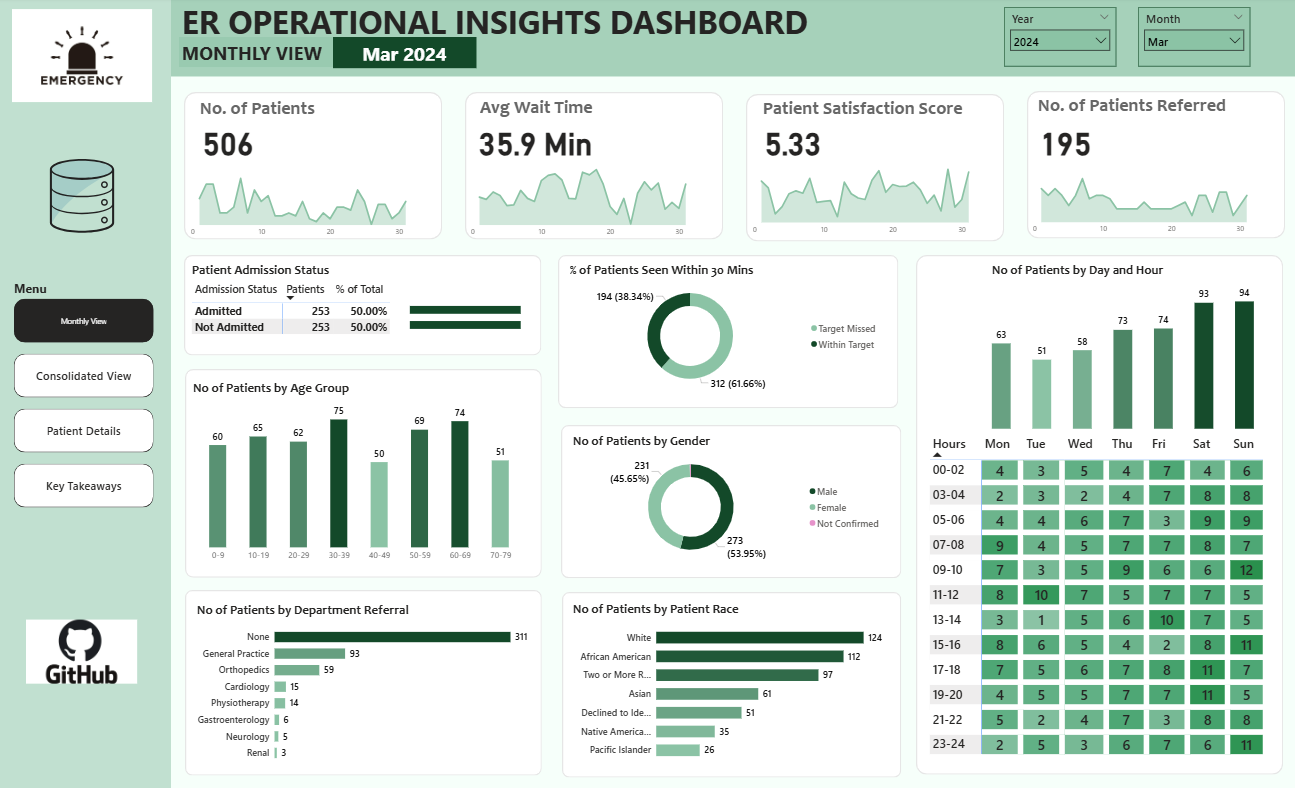

The page's visual inventory and layout, read from the dashboard file:
{"tool":"powerbi","page":{"name":"Monthly View","canvas":[2300,1400],"ordinal":0},"visuals":[{"type":"shape","box":[0,0,308.6,1400],"z":0},{"type":"shape","box":[309.1,0,1990.9,140],"z":1000},{"type":"shape","box":[1621.8,454.5,647.3,916.4],"z":2000},{"type":"textbox","box":[321.8,0,1209.1,107.3],"z":3000},{"type":"shape","box":[330.9,167.3,455,260],"z":4000},{"type":"textbox","box":[321.8,70.9,345.5,52.7],"z":5000},{"type":"cardVisual","fields":{"Data":["Hospital ER_Data.No of Patients"]},"box":[332.7,209.1,150.9,94.5],"z":6000},{"type":"slicer","fields":{"Values":["Date Table.Year"]},"box":[1778.2,18.2,198.2,105.5],"z":7000},{"type":"slicer","fields":{"Values":["Date Table.Month"]},"box":[2012.7,18.2,198.2,105.5],"z":8000},{"type":"textbox","box":[354.5,170.9,240,60],"z":9000},{"type":"areaChart","fields":{"Category":["Date Table.Date.Variation.Date Hierarchy.Day"],"Y":["Hospital ER_Data.No of Patients"]},"box":[330.9,285.5,454.5,145.5],"z":10000},{"type":"cardVisual","fields":{"Data":["Min(Date Table.Month & Year)"]},"box":[594.5,70.9,252.7,54.5],"z":11000},{"type":"shape","box":[826.4,168.2,455,260],"z":12000},{"type":"cardVisual","fields":{"Data":["Hospital ER_Data.Avg Wait Time"]},"box":[816.4,209.1,270.9,94.5],"z":13000},{"type":"textbox","box":[847.3,169.1,240,61.8],"z":14000},{"type":"shape","box":[330.9,454.5,630,177],"z":15000},{"type":"shape","box":[1321.8,170.9,455,260],"z":16000},{"type":"cardVisual","fields":{"Data":["Avg(Hospital ER_Data.Patient Satisfaction Score)"]},"box":[1312.7,209.1,181.8,94.5],"z":17000},{"type":"textbox","box":[1347.3,170.9,390.9,56.4],"z":18000},{"type":"areaChart","fields":{"Category":["Date Table.Date.Variation.Date Hierarchy.Day"],"Y":["Avg(Hospital ER_Data.Patient Satisfaction Score)"]},"box":[1321.8,281.8,456.4,145.5],"z":19000},{"type":"shape","box":[1817.3,165.5,455,260],"z":20000},{"type":"cardVisual","fields":{"Data":["Hospital ER_Data.No of Patients Referred"]},"box":[1796.4,209.1,180,94.5],"z":21000},{"type":"textbox","box":[1832.7,165.5,378.2,67.3],"z":22000},{"type":"areaChart","fields":{"Category":["Date Table.Date.Variation.Date Hierarchy.Day"],"Y":["Hospital ER_Data.No of Patients Referred"]},"box":[1816.4,294.5,452.7,132.7],"z":23000},{"type":"areaChart","fields":{"Category":["Date Table.Date.Variation.Date Hierarchy.Day"],"Y":["Avg(Hospital ER_Data.Patient Waittime)"]},"box":[825.5,285.5,454.5,145.5],"z":24000},{"type":"pivotTable","title":"Patient Admission Status","fields":{"Rows":["Hospital ER_Data.Admission Status"],"Values":["Hospital ER_Data.No of Patients1","Hospital ER_Data.No of Patients"]},"box":[340,467.3,601.8,150.9],"z":25000},{"type":"barChart","fields":{"Category":["Hospital ER_Data.Admission Status"],"Y":["Hospital ER_Data.No of Patients"]},"box":[725.5,518.2,241.8,87.3],"z":26000},{"type":"shape","box":[332.7,656.4,629.1,368],"z":27000},{"type":"clusteredColumnChart","fields":{"Category":["Hospital ER_Data.Age Group"],"Y":["Hospital ER_Data.No of Patients"]},"box":[347.3,674.5,587.3,329.1],"z":28000},{"type":"shape","box":[332.7,1045.5,629.1,327.3],"z":29000},{"type":"clusteredBarChart","fields":{"Category":["Hospital ER_Data.Department Referral"],"Y":["Hospital ER_Data.No of Patients"]},"box":[349.1,1066.8,594.2,292.7],"z":30000},{"type":"shape","box":[990.9,454.5,600,270],"z":31000},{"type":"donutChart","title":"% of Patients Seen Within 30 Mins","fields":{"Category":["Hospital ER_Data.Waittime Status"],"Y":["Hospital ER_Data.No of Patients"]},"box":[1007.3,467.3,558.2,232.7],"z":32000},{"type":"shape","box":[995.5,755.5,600,270],"z":33000},{"type":"donutChart","title":"No of Patients by Gender","fields":{"Y":["Hospital ER_Data.No of Patients"],"Category":["Hospital ER_Data.Patient Gender"]},"box":[1011.8,768.2,558.2,232.7],"z":34000},{"type":"shape","box":[998.2,1049.1,598.2,327.3],"z":35000},{"type":"clusteredBarChart","fields":{"Y":["Hospital ER_Data.No of Patients"],"Category":["Hospital ER_Data.Patient Race"]},"box":[1012.7,1065.5,556.4,292.7],"z":36000},{"type":"pivotTable","fields":{"Rows":["Hospital ER_Data.Waittime Interval"],"Columns":["Date Table.Day Name"],"Values":["Hospital ER_Data.No of Patients"]},"box":[1641.8,767.3,605.5,585.5],"z":37000},{"type":"columnChart","title":"No of Patients by Day and Hour","fields":{"Category":["Date Table.Day Name"],"Y":["Hospital ER_Data.No of Patients"]},"box":[1750.9,467.3,474.5,300],"z":38000},{"type":"pageNavigator","title":"Menu","box":[31.7,499,246.9,402],"z":39000},{"type":"image","box":[28.2,5.3,246.9,195.7],"z":40000},{"type":"image","box":[54.7,285.6,194,130.5],"z":41000},{"type":"image","box":[52.9,1066.8,195.7,174.6],"z":42000}]}

Visuals, with their boxes in screenshot pixels (x1, y1, x2, y2), scaled from the page's 2300x1400 canvas onto the 1295x788 screenshot:
shape: box(0, 0, 174, 787)
shape: box(174, 0, 1294, 79)
shape: box(913, 256, 1278, 772)
textbox: box(181, 0, 862, 60)
shape: box(186, 94, 442, 241)
textbox: box(181, 40, 376, 70)
cardVisual - Hospital ER_Data.No of Patients: box(187, 118, 272, 171)
slicer - Date Table.Year: box(1001, 10, 1113, 70)
slicer - Date Table.Month: box(1133, 10, 1245, 70)
textbox: box(200, 96, 335, 130)
areaChart - Date Table.Date.Variation.Date Hierarchy.Day x Hospital ER_Data.No of Patients: box(186, 161, 442, 243)
cardVisual - Min(Date Table.Month & Year): box(335, 40, 477, 71)
shape: box(465, 95, 721, 241)
cardVisual - Hospital ER_Data.Avg Wait Time: box(460, 118, 612, 171)
textbox: box(477, 95, 612, 130)
shape: box(186, 256, 541, 355)
shape: box(744, 96, 1000, 243)
cardVisual - Avg(Hospital ER_Data.Patient Satisfaction Score): box(739, 118, 841, 171)
textbox: box(759, 96, 979, 128)
areaChart - Date Table.Date.Variation.Date Hierarchy.Day x Avg(Hospital ER_Data.Patient Satisfaction Score): box(744, 159, 1001, 241)
shape: box(1023, 93, 1279, 239)
cardVisual - Hospital ER_Data.No of Patients Referred: box(1011, 118, 1113, 171)
textbox: box(1032, 93, 1245, 131)
areaChart - Date Table.Date.Variation.Date Hierarchy.Day x Hospital ER_Data.No of Patients Referred: box(1023, 166, 1278, 240)
areaChart - Date Table.Date.Variation.Date Hierarchy.Day x Avg(Hospital ER_Data.Patient Waittime): box(465, 161, 721, 243)
"Patient Admission Status" pivotTable: box(191, 263, 530, 348)
barChart - Hospital ER_Data.Admission Status x Hospital ER_Data.No of Patients: box(408, 292, 545, 341)
shape: box(187, 369, 542, 577)
clusteredColumnChart - Hospital ER_Data.Age Group x Hospital ER_Data.No of Patients: box(196, 380, 526, 565)
shape: box(187, 588, 542, 773)
clusteredBarChart - Hospital ER_Data.Department Referral x Hospital ER_Data.No of Patients: box(197, 600, 531, 765)
shape: box(558, 256, 896, 408)
"% of Patients Seen Within 30 Mins" donutChart: box(567, 263, 881, 394)
shape: box(561, 425, 898, 577)
"No of Patients by Gender" donutChart: box(570, 432, 884, 563)
shape: box(562, 590, 899, 775)
clusteredBarChart - Hospital ER_Data.No of Patients x Hospital ER_Data.Patient Race: box(570, 600, 883, 764)
pivotTable - Hospital ER_Data.Waittime Interval x Date Table.Day Name: box(924, 432, 1265, 761)
"No of Patients by Day and Hour" columnChart: box(986, 263, 1253, 432)
"Menu" pageNavigator: box(18, 281, 157, 507)
image: box(16, 3, 155, 113)
image: box(31, 161, 140, 234)
image: box(30, 600, 140, 699)
